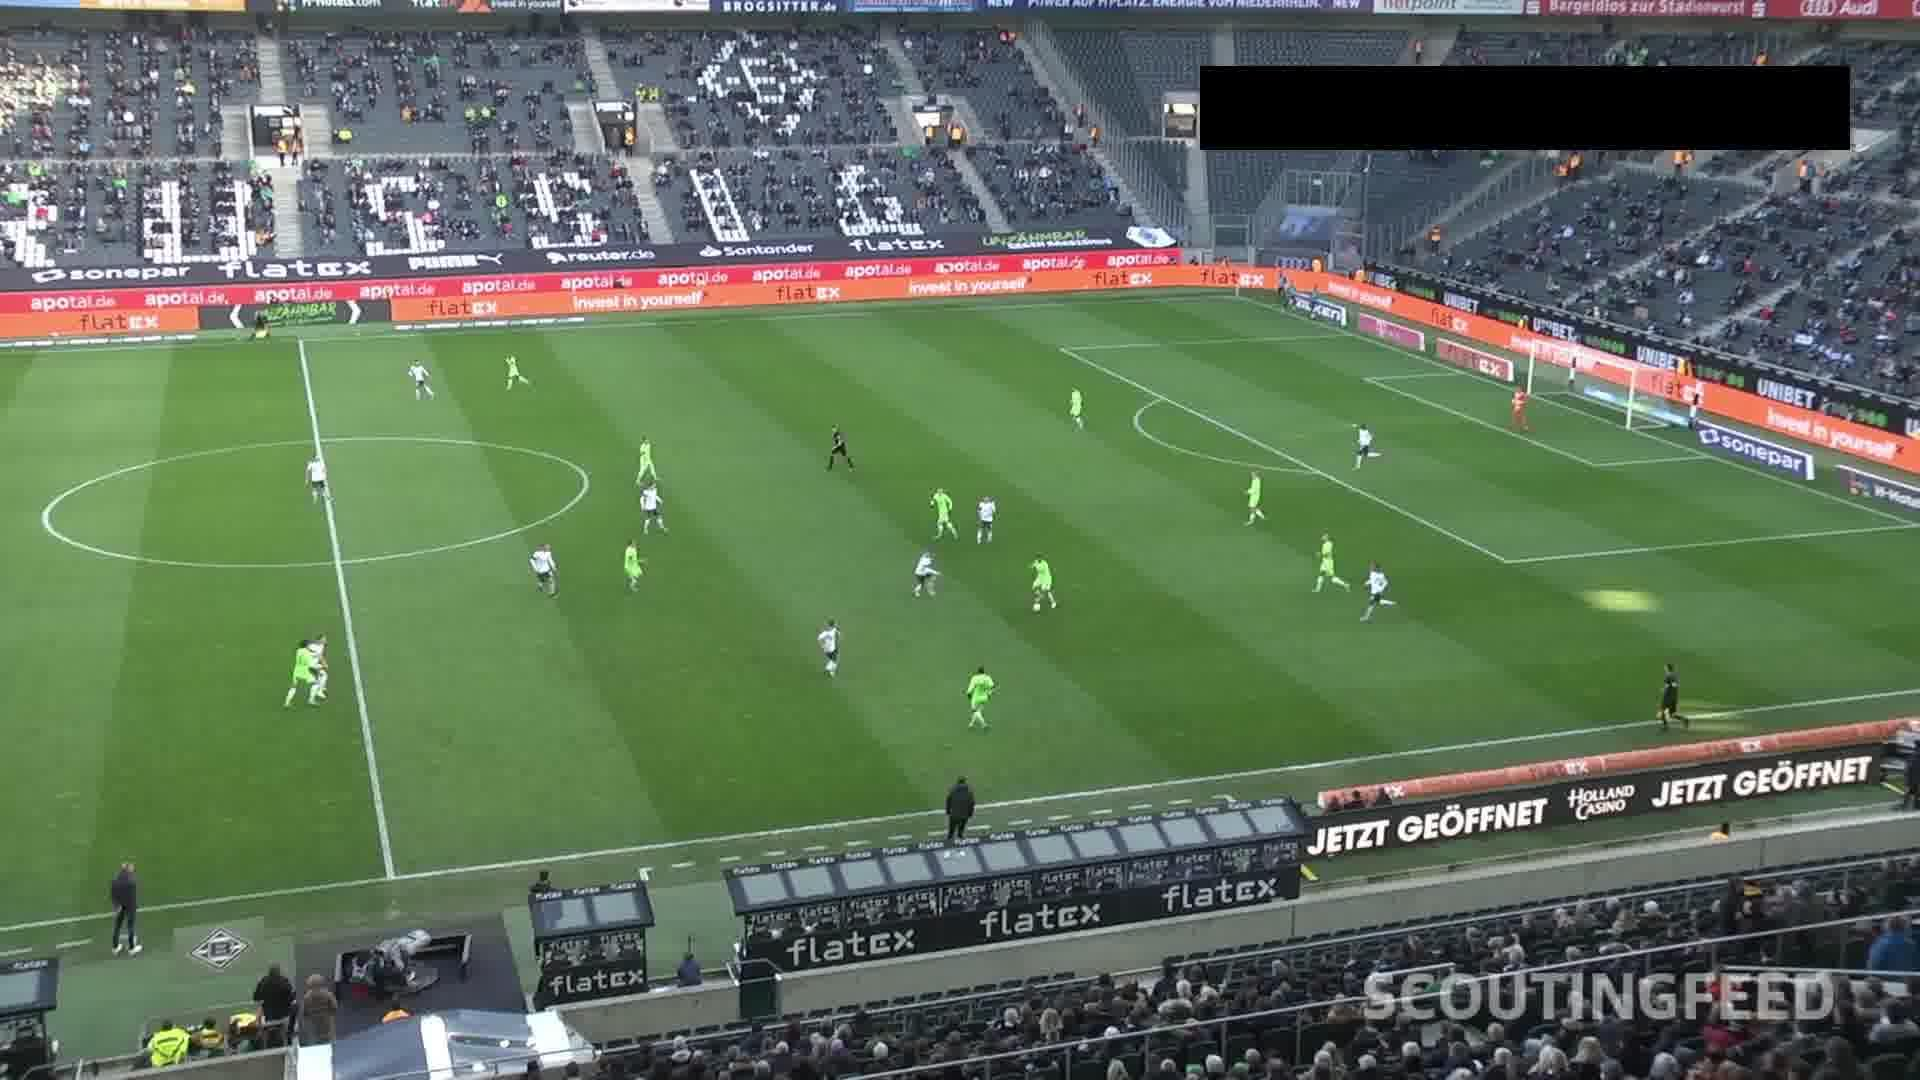football: (1031, 604, 1040, 613)
